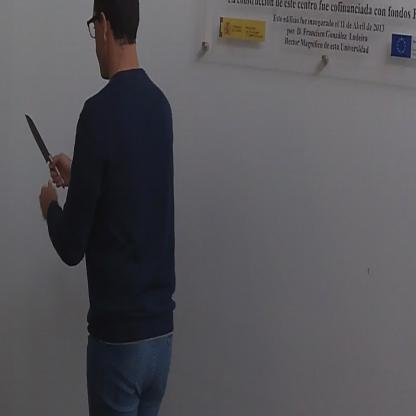knife: (23, 109, 66, 189)
